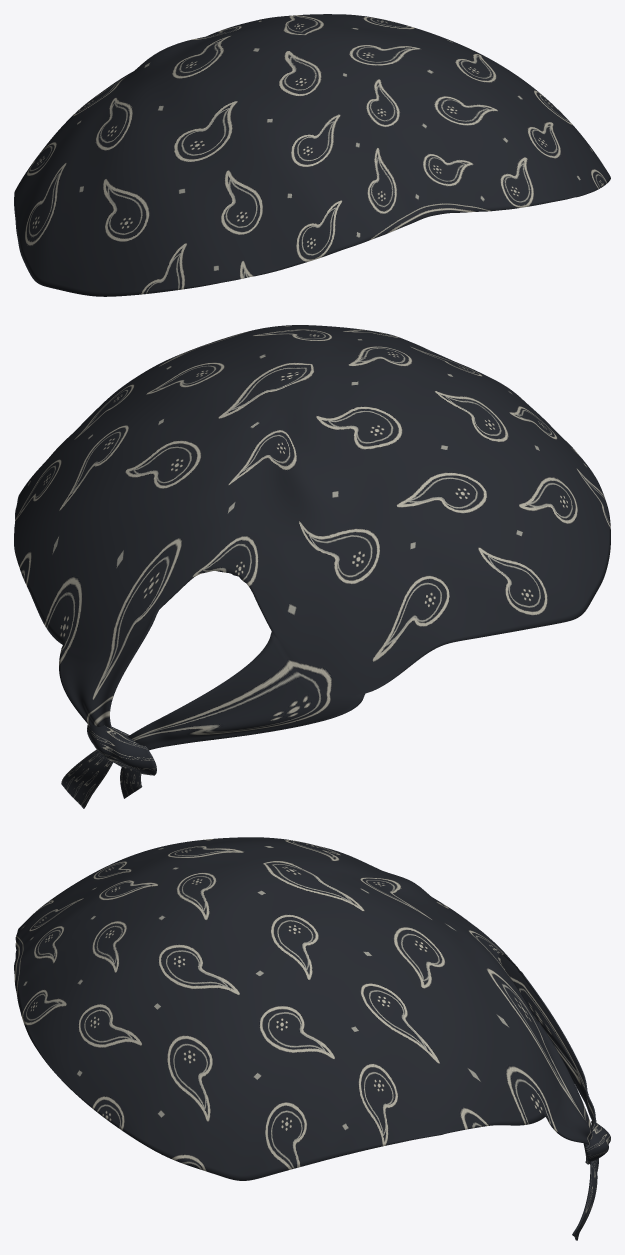
File: ponytail-bandana.glb
The picture shows the model from 3 angles, top to bottom: view 1: azimuth 30°, elevation 25°; view 2: azimuth 150°, elevation 25°; view 3: azimuth 270°, elevation 25°; orthographic projection.
Parts seen in each view (by area): view 1: Bandana / continuous crown and gathers; view 2: Bandana / continuous crown and gathers, Bandana / under-tail knot, Bandana / hanging end 1; view 3: Bandana / continuous crown and gathers, Bandana / under-tail knot, Bandana / hanging end 1.
Boxes of the visible parts, box(x1,y1,x2,y2) form: Bandana / continuous crown and gathers: box(14, 14, 610, 296); Bandana / continuous crown and gathers: box(14, 325, 610, 750); Bandana / under-tail knot: box(87, 724, 156, 775); Bandana / hanging end 1: box(61, 749, 112, 808); Bandana / continuous crown and gathers: box(14, 837, 596, 1180); Bandana / under-tail knot: box(583, 1120, 610, 1164); Bandana / hanging end 1: box(572, 1160, 597, 1240).
Bounding box in the file's own units: 0.7301 × 0.4458 × 0.7004.
1 material, 1 textured.
